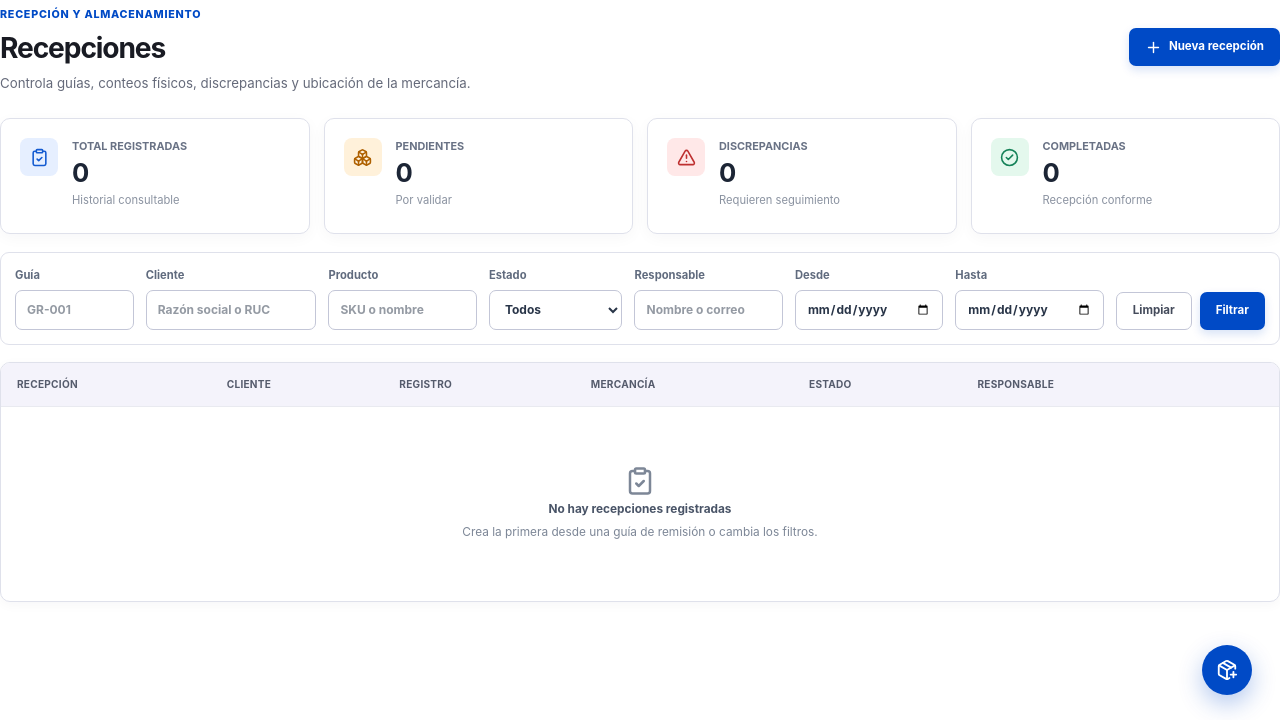
Test case: ReceptionsPage › requires the guide and client before creating a reception
Step 1. Click the button "Nueva recepción" → coordinates (1204, 47), box [1129,28,1279,66]
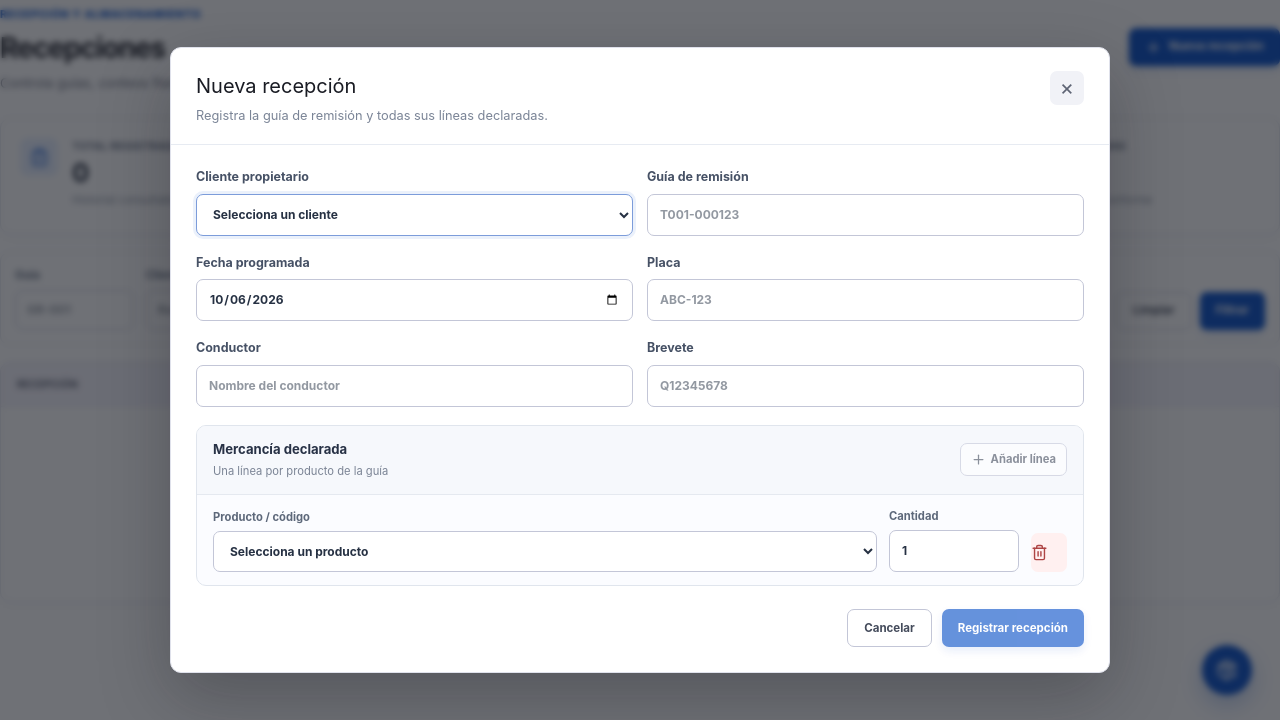
Step 2. Select "Cliente Demo · 20123456789" in the dropdown labelled "Cliente propietario" → coordinates (414, 215), box [196,194,633,236]
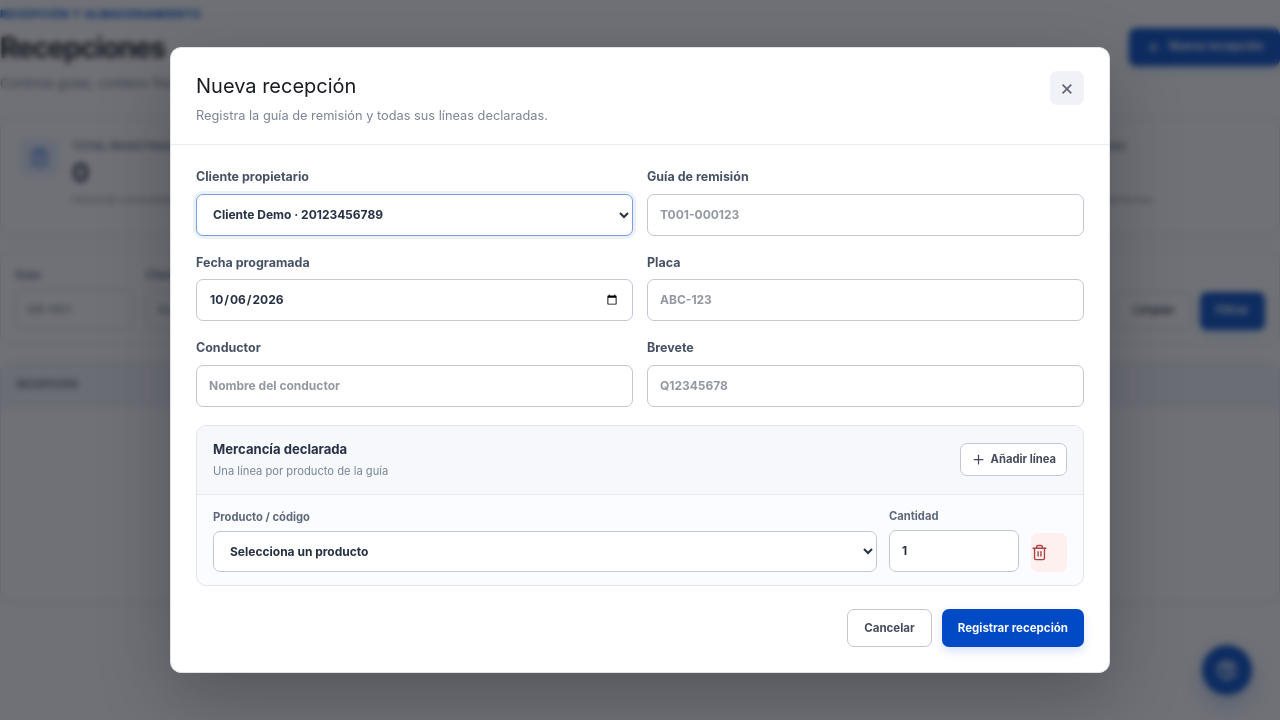
Step 3. Submit the form named "Registrar recepción", box [171,145,1109,672]
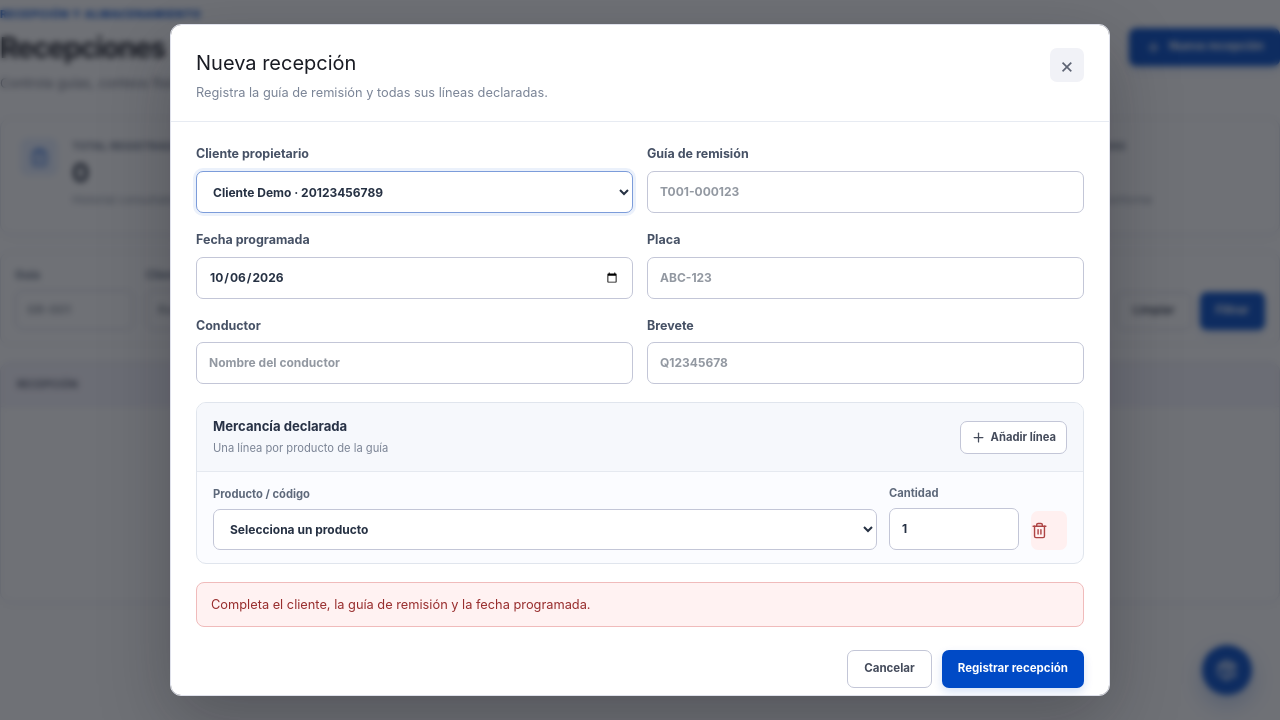
Result: the message reads "Completa el cliente, la guía de remisión y la fecha programada." at [211,597,590,612]
